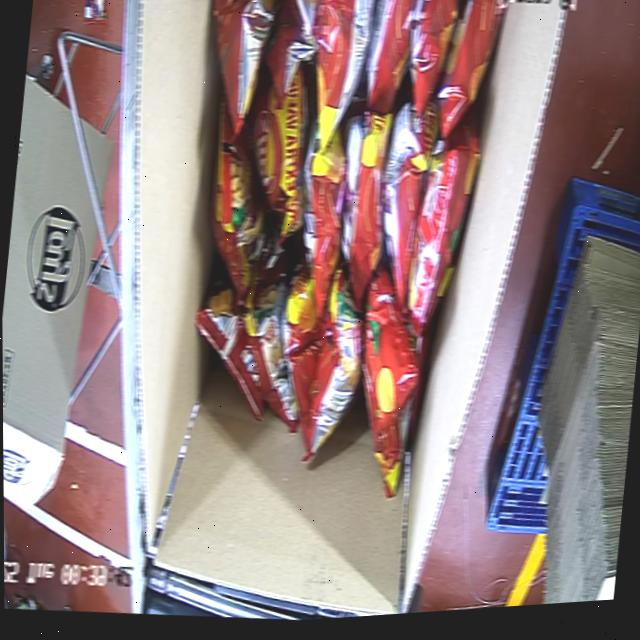MASALA: (158, 0, 514, 519)
